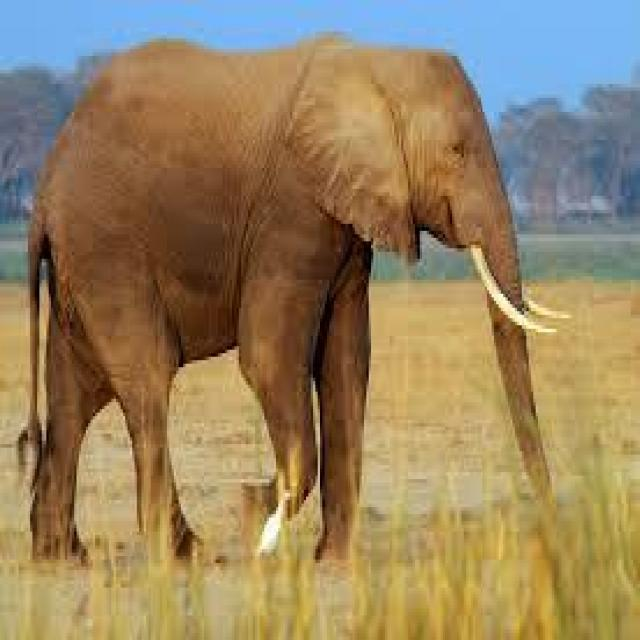Elephant: (19, 32, 542, 570)
